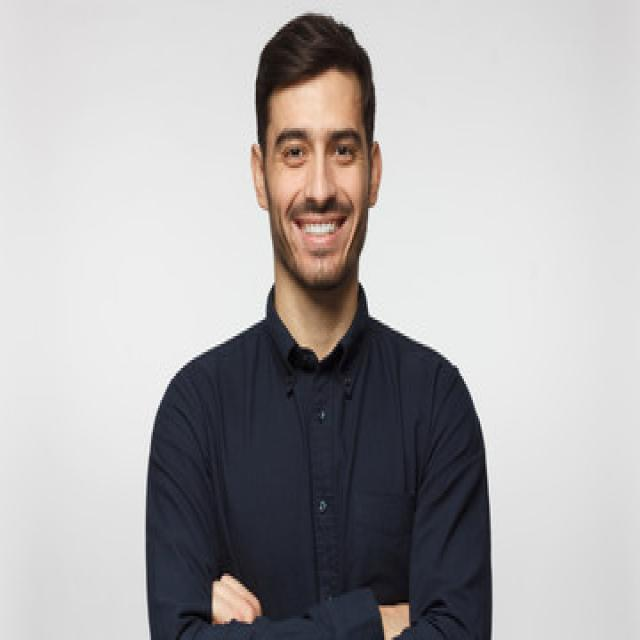person-without-mask: (140, 0, 512, 640)
